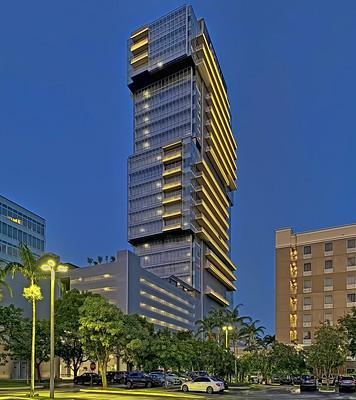building: (116, 0, 241, 360)
